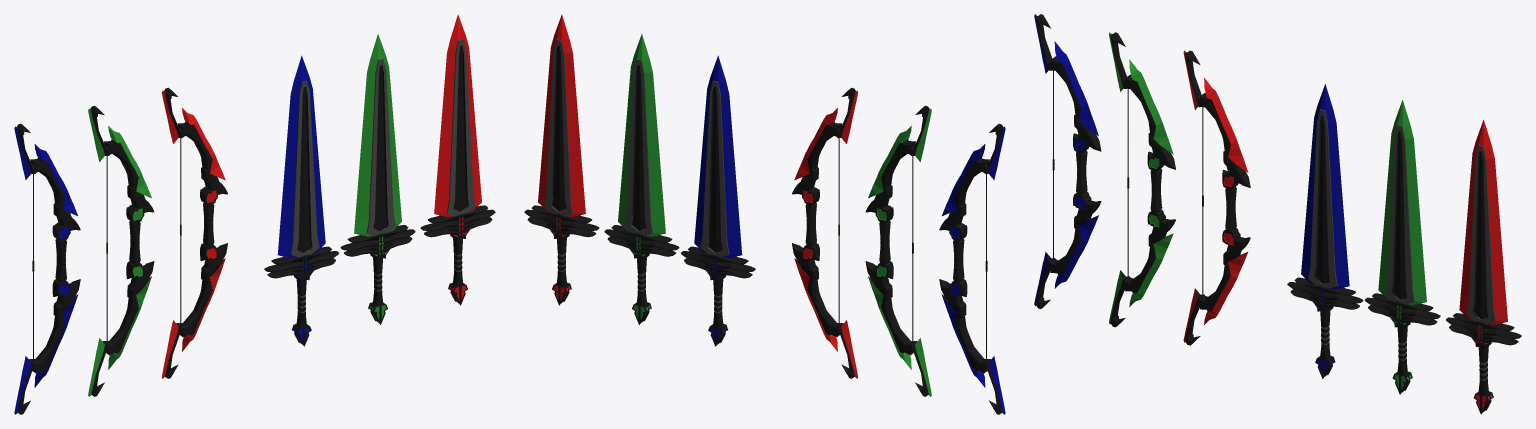
Rendered from SwordAndBow.glb.
3 renders of one model, left to right at view 1: azimuth 30°, elevation 25°; view 2: azimuth 150°, elevation 25°; view 3: azimuth 330°, elevation 25°, orthographic.
Visible parts, largest first — view 1: Sword_Green, Sword_Blue, Sword_Red, Bow_Green, Bow_Red, Bow_Blue; view 2: Sword_Green, Sword_Blue, Sword_Red, Bow_Green, Bow_Red, Bow_Blue; view 3: Sword_Red, Sword_Blue, Sword_Green, Bow_Green, Bow_Red, Bow_Blue.
Part boxes in pixels (x1,y1,x2,y2): Sword_Green: [340, 34, 415, 324]; Sword_Blue: [264, 55, 338, 346]; Sword_Red: [420, 14, 495, 305]; Bow_Green: [88, 105, 154, 396]; Bow_Red: [161, 87, 227, 378]; Bow_Blue: [14, 123, 80, 414]; Sword_Green: [604, 34, 679, 324]; Sword_Blue: [681, 55, 755, 346]; Sword_Red: [524, 14, 599, 305]; Bow_Green: [865, 105, 931, 396]; Bow_Red: [792, 87, 858, 378]; Bow_Blue: [939, 123, 1005, 414]; Sword_Red: [1446, 119, 1521, 414]; Sword_Blue: [1287, 84, 1363, 378]; Sword_Green: [1364, 100, 1440, 394]; Bow_Green: [1109, 32, 1175, 327]; Bow_Red: [1183, 50, 1250, 345]; Bow_Blue: [1034, 14, 1101, 308].
Bounding box in the file's own units: 2.6 × 1.52 × 0.0718.
